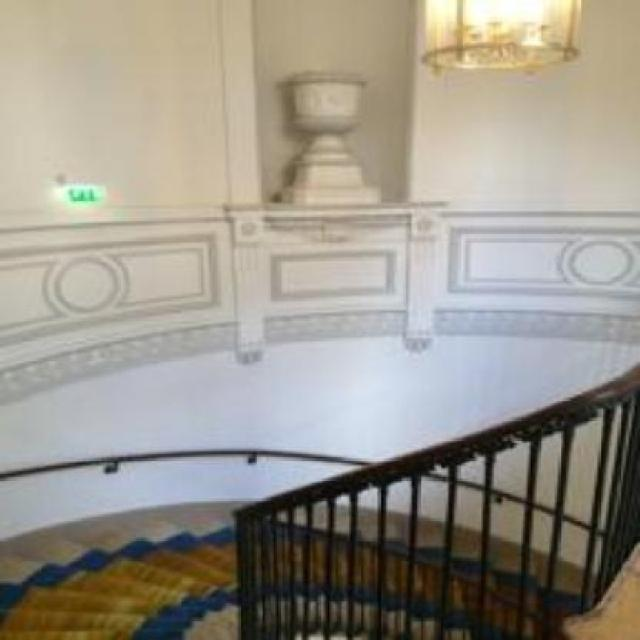stair: (1, 504, 233, 640)
